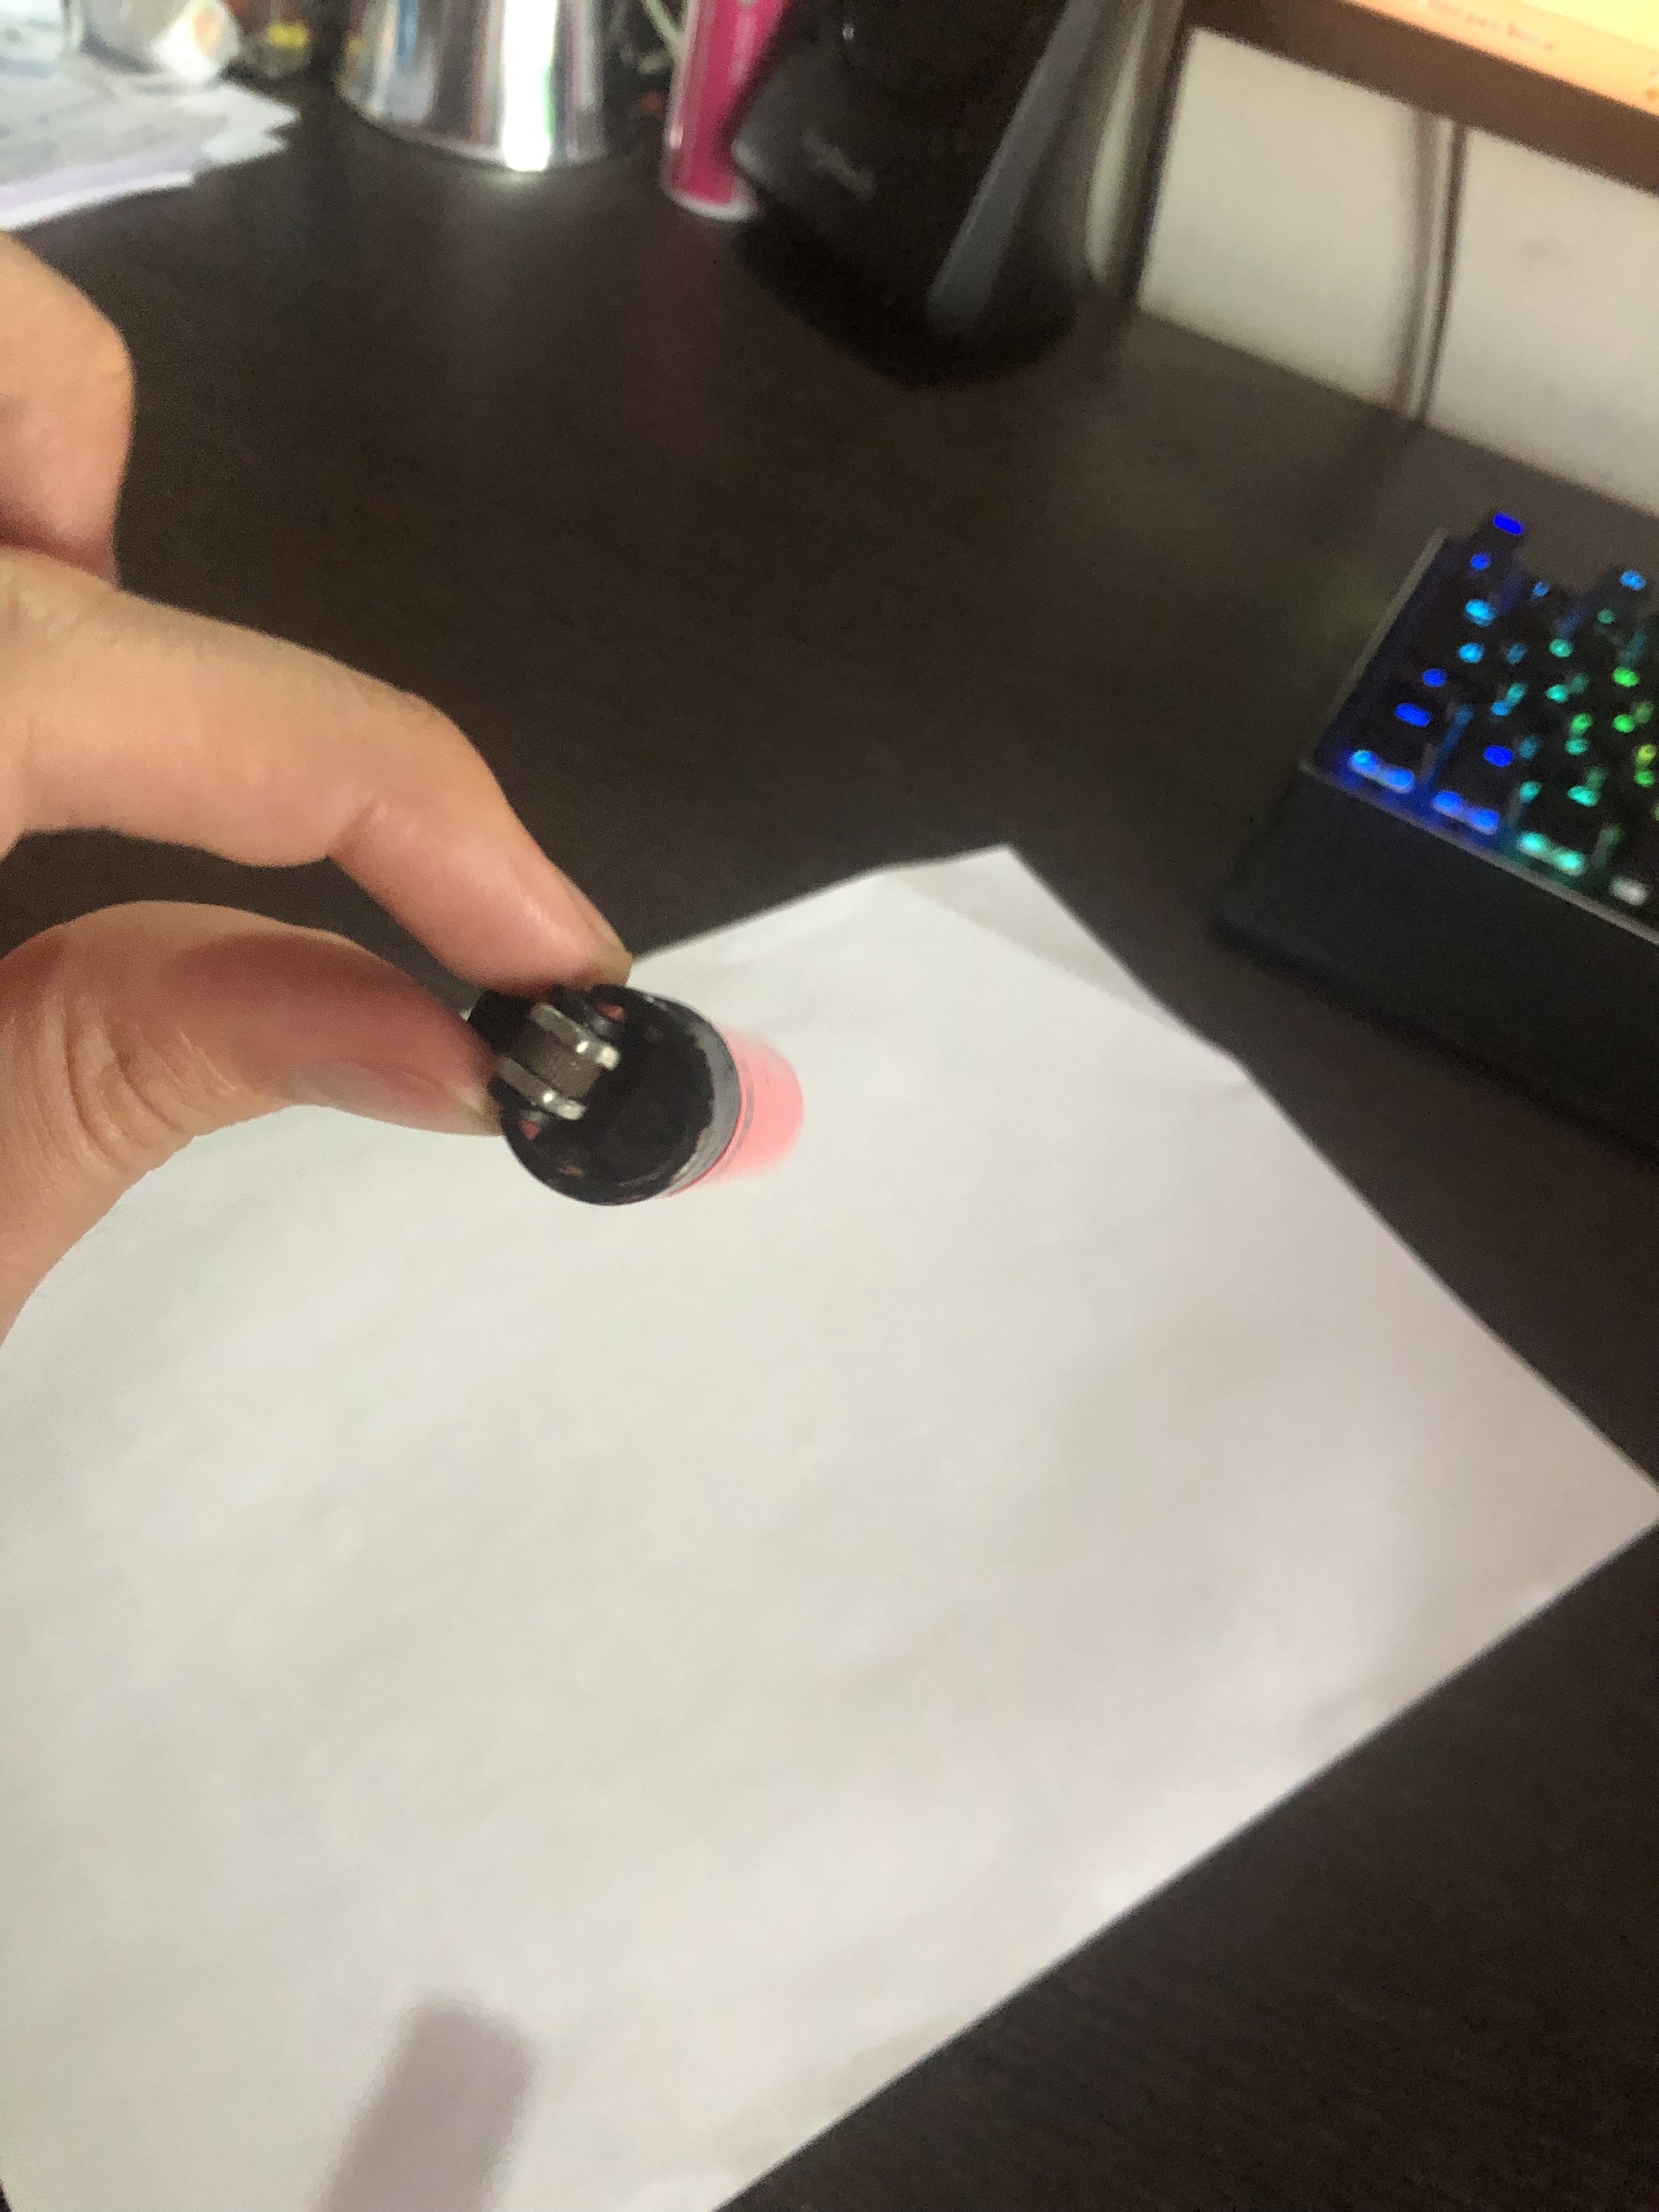Mechero: (444, 979, 824, 1221)
